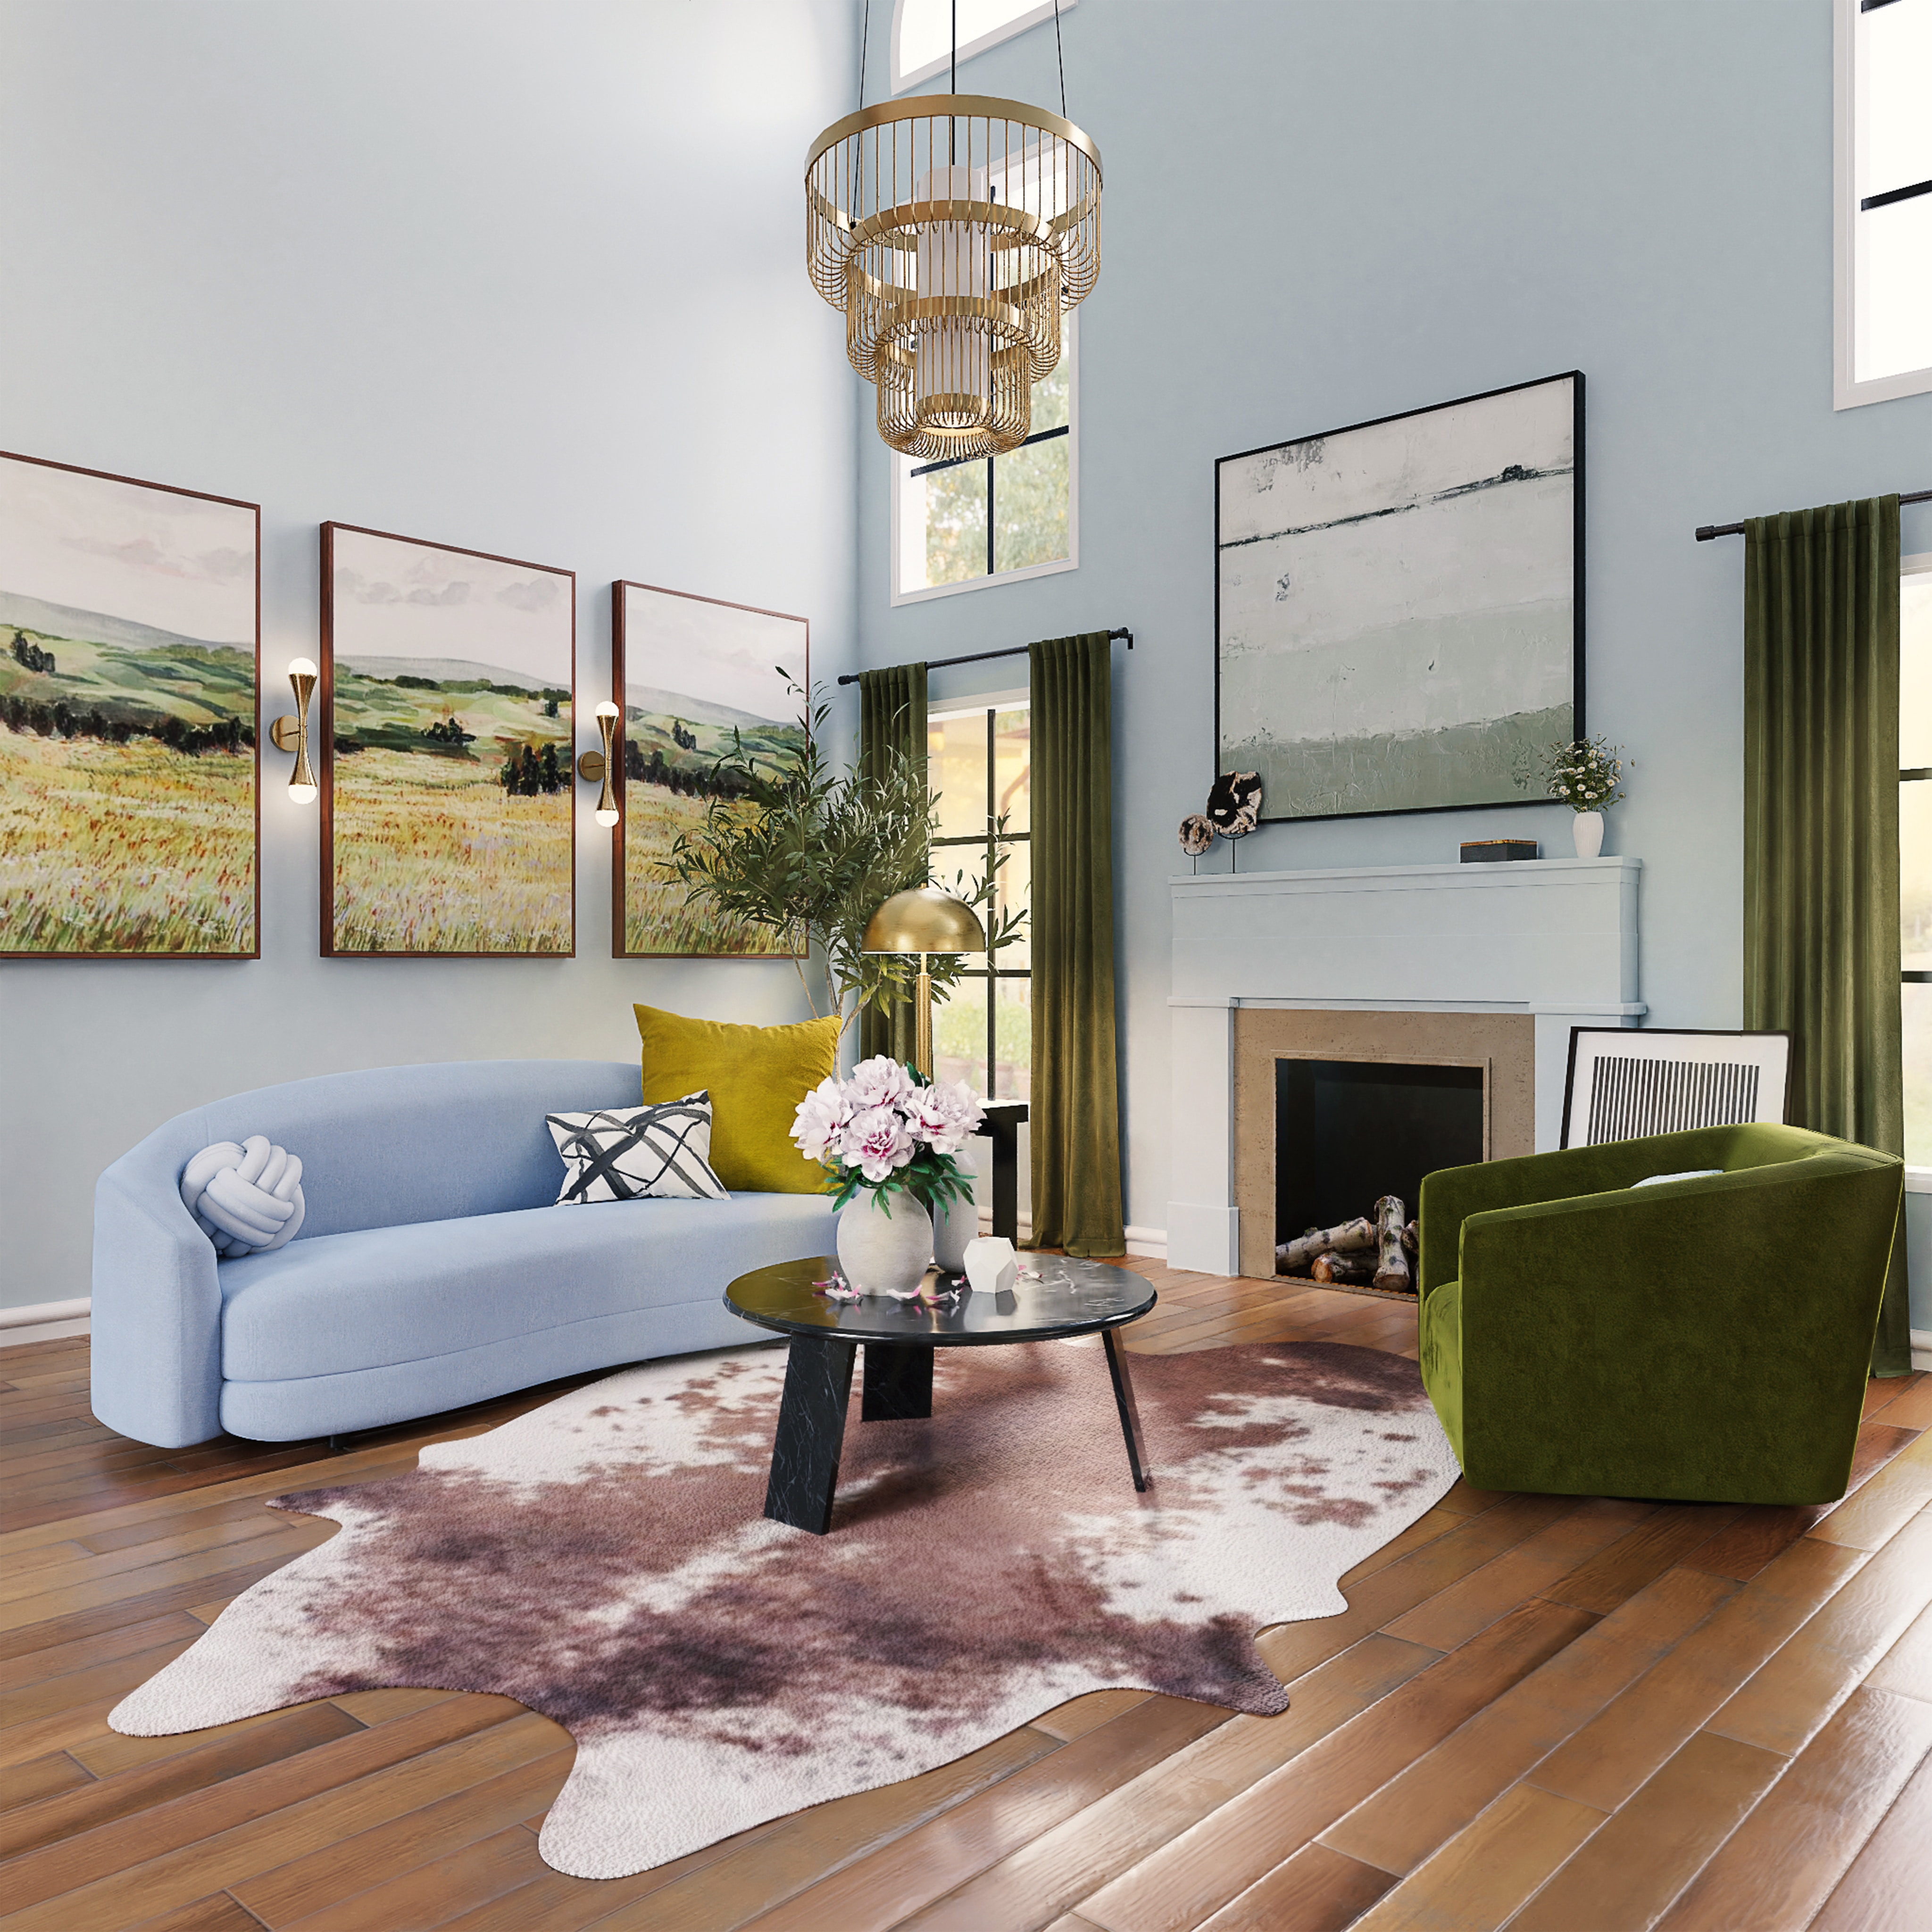Chair: (1389, 1122, 1918, 1548)
Painting: (1185, 366, 1629, 837), (0, 441, 276, 991), (310, 495, 586, 984), (607, 564, 816, 984)
Sofa: (90, 1047, 980, 1458)
